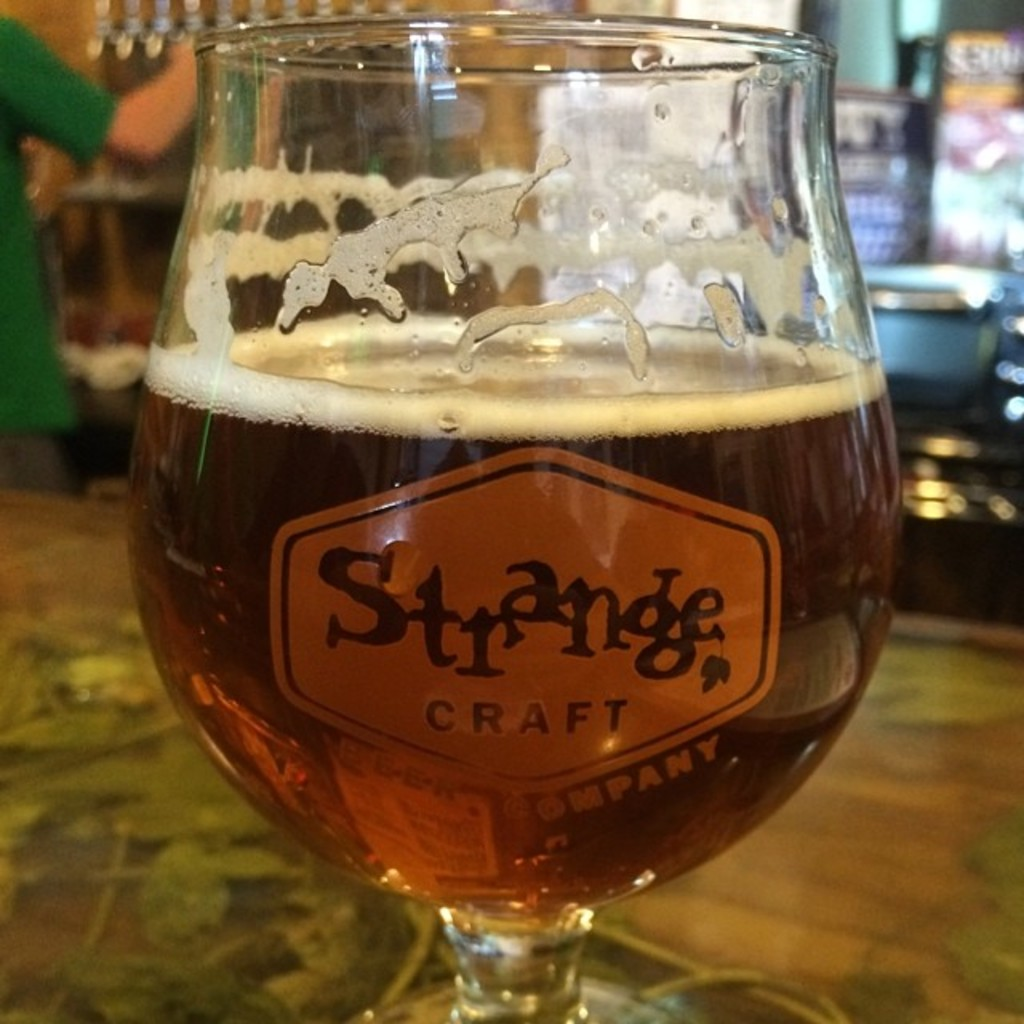Beer: (123, 14, 903, 1024)
